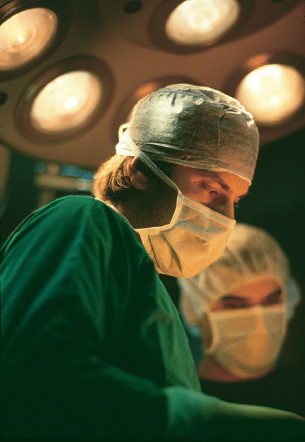face_mask: (154, 144, 250, 276), (208, 266, 287, 385)
